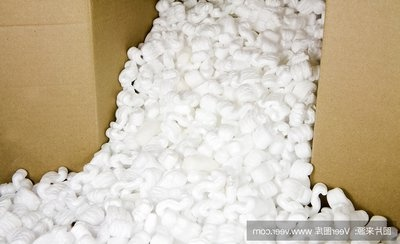5/可回收垃圾/泡沫: (1, 1, 398, 244)
